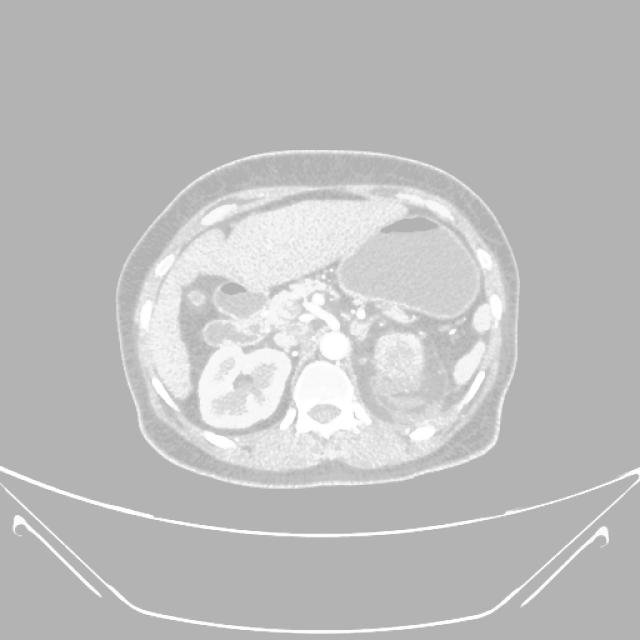TUMOR: (100, 204, 574, 379)
